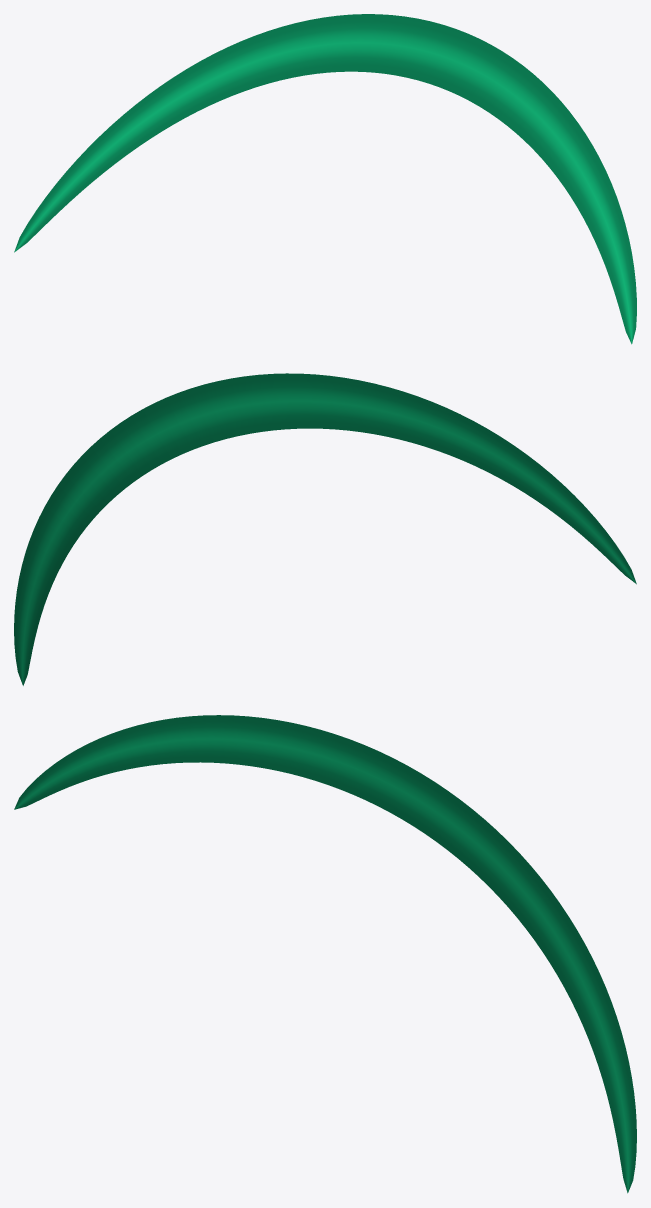
The model's file is Venti_WindArc.fbx.
3 renders of one model, top to bottom at view 1: azimuth 30°, elevation 25°; view 2: azimuth 150°, elevation 25°; view 3: azimuth 330°, elevation 25°, orthographic. The views are drawn at different scales.
Parts seen in each view (by area): view 1: Venti_WindArc; view 2: Venti_WindArc; view 3: Venti_WindArc.
Boxes of the visible parts, x1,y1,x2,y2 form: Venti_WindArc: (14,14,636,344); Venti_WindArc: (14,373,636,685); Venti_WindArc: (14,715,636,1193).
Bounding box in the file's own units: 1.76 × 1.07 × 0.09.
